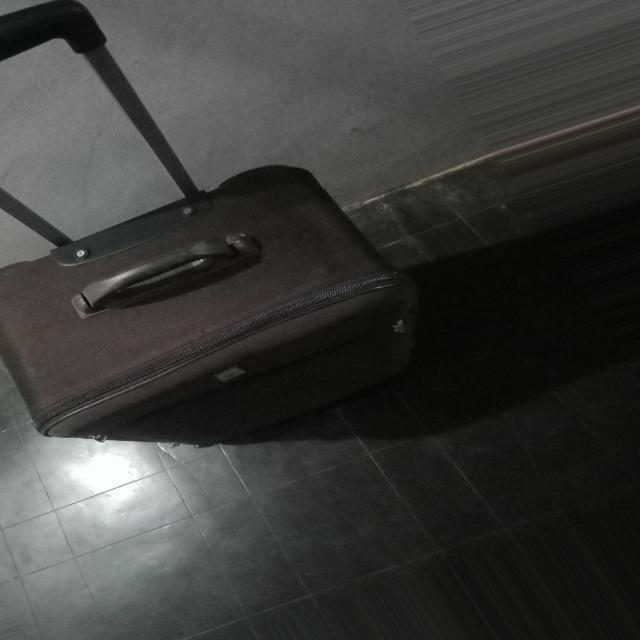Suitcase: (0, 0, 436, 445)
